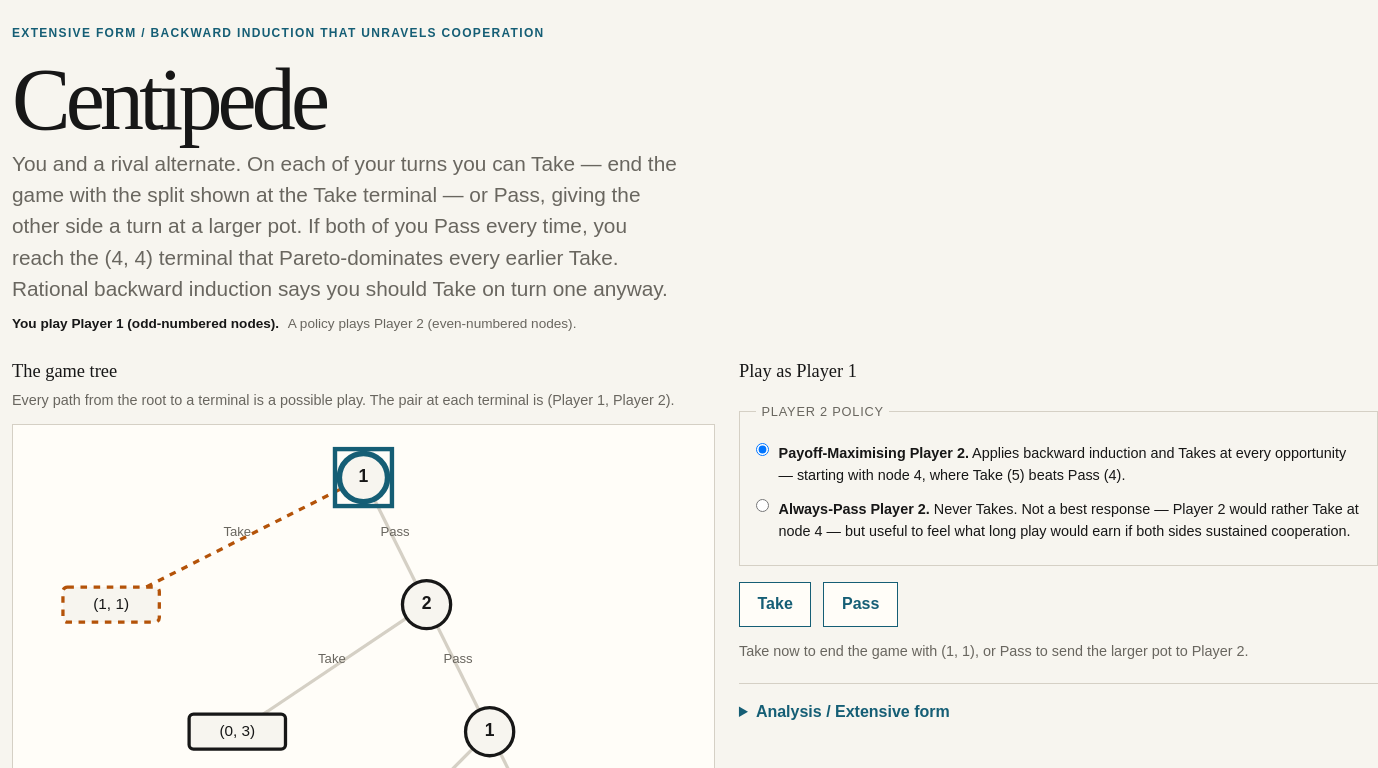
Test: extensive-form play surface — centipede › passing repeatedly against the always-pass rival reaches the (4, 4) long game
The image size is (1378, 768).
Click the radio button labelled "Always-Pass Player 2": x=762, y=506 [756,499,769,512]
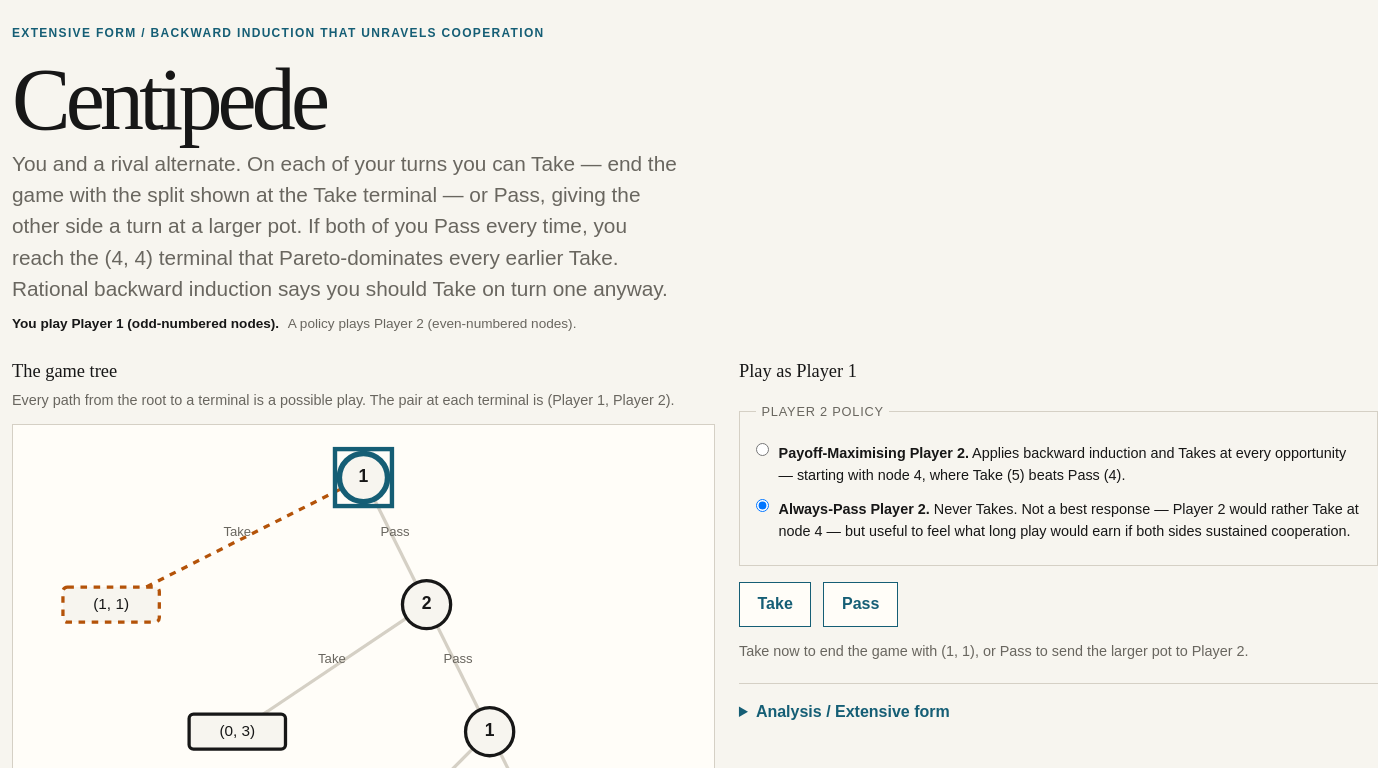
Click the button "Pass": x=861, y=604 [823,582,898,627]
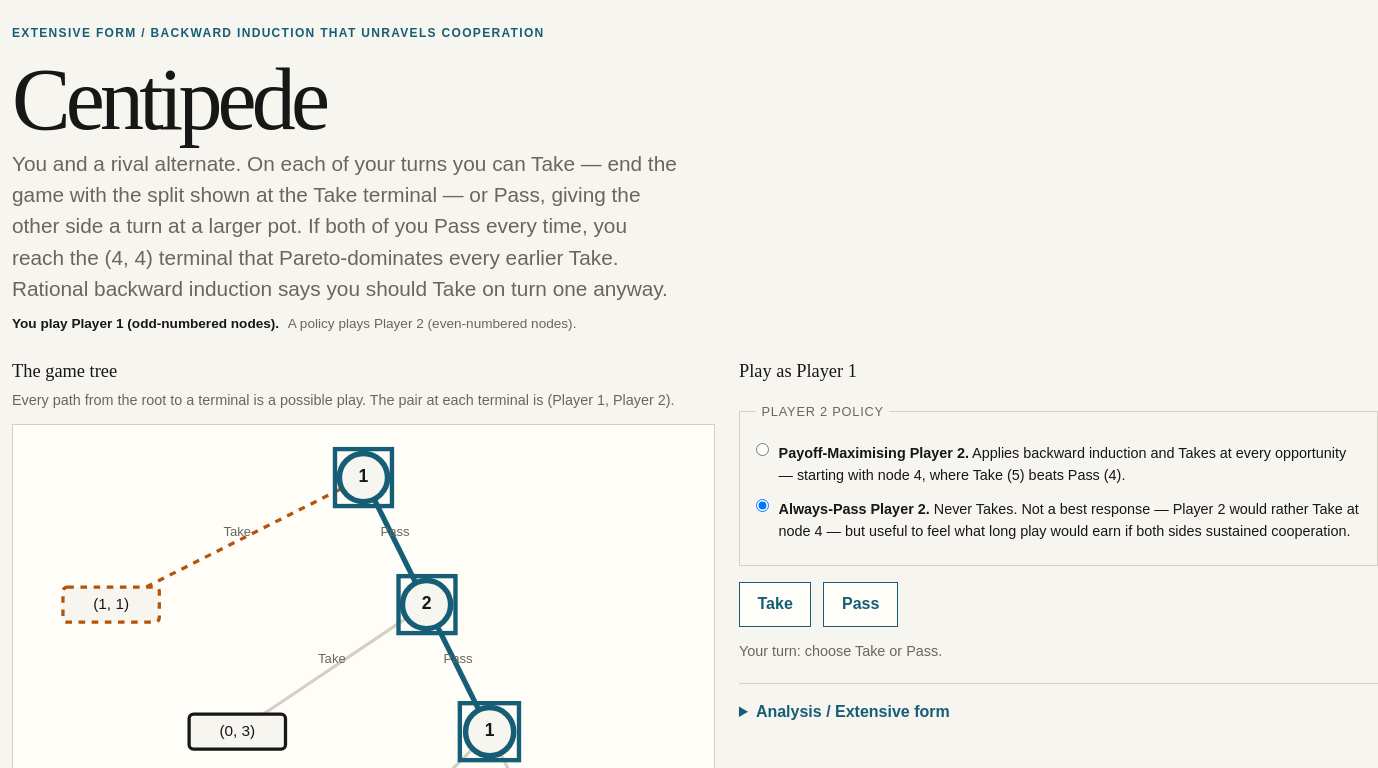
Click the button "Pass": x=861, y=604 [823,582,898,627]
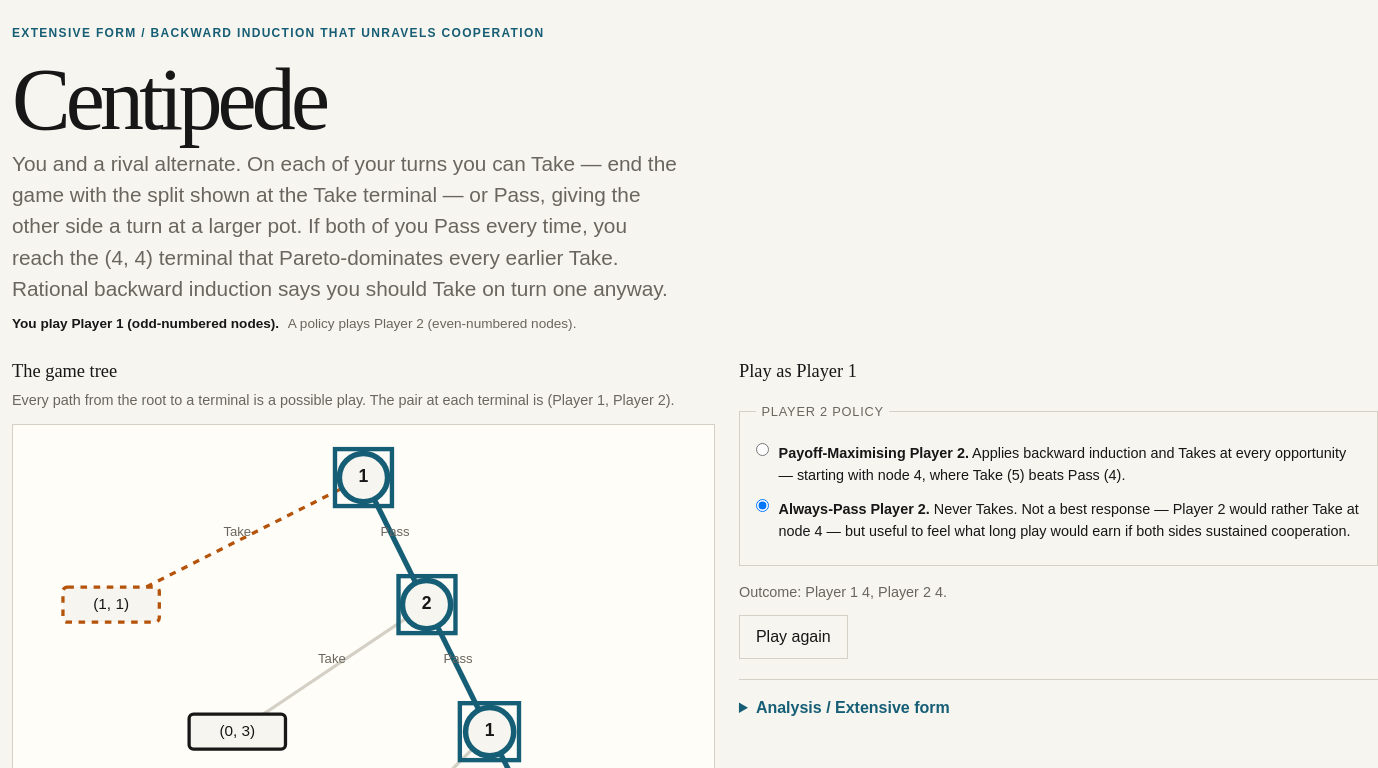
Check: the text "Outcome: Player 1 4, Player 2 4." is shown, box [739,584,947,600]
